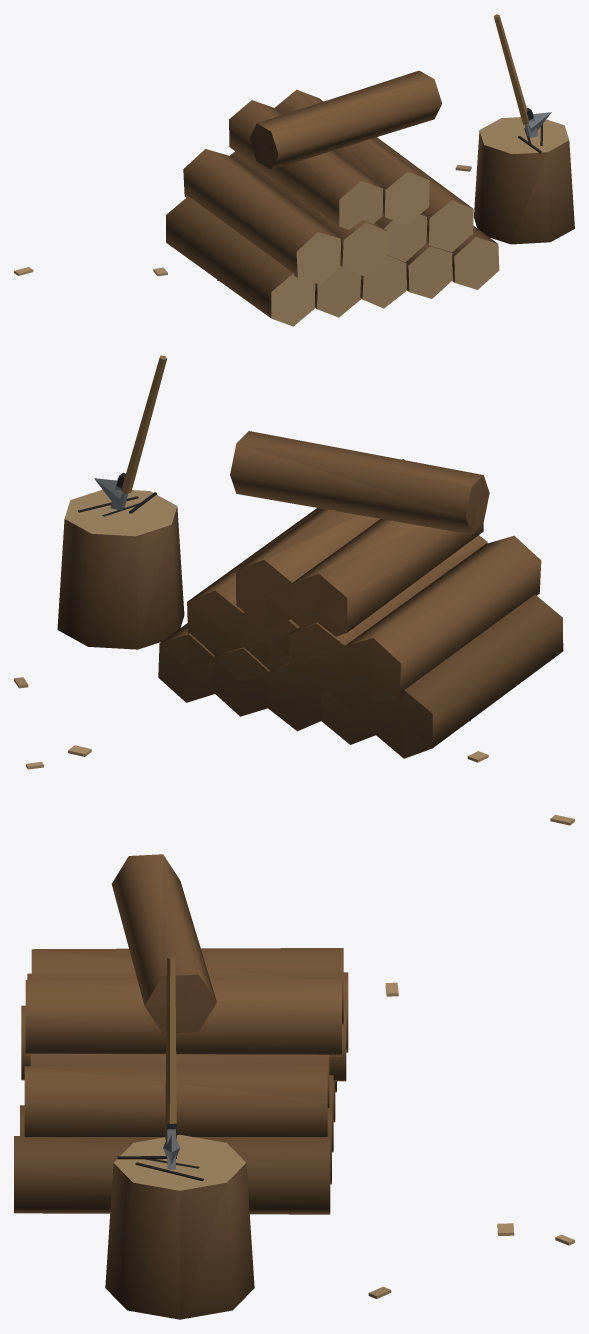
The model's file is log-pile.glb.
The picture shows the model from 3 angles, top to bottom: view 1: azimuth 30°, elevation 25°; view 2: azimuth 150°, elevation 25°; view 3: azimuth 270°, elevation 25°; orthographic projection. The views are drawn at different scales.
Parts seen in each view (by area): view 1: log_pile; view 2: log_pile; view 3: log_pile.
Boxes of the visible parts, <box> form: log_pile: <box>14,14,574,326</box>; log_pile: <box>14,355,574,825</box>; log_pile: <box>14,854,574,1319</box>.
Size of the model in its own units: 2.85 by 1.24 by 2.03.
